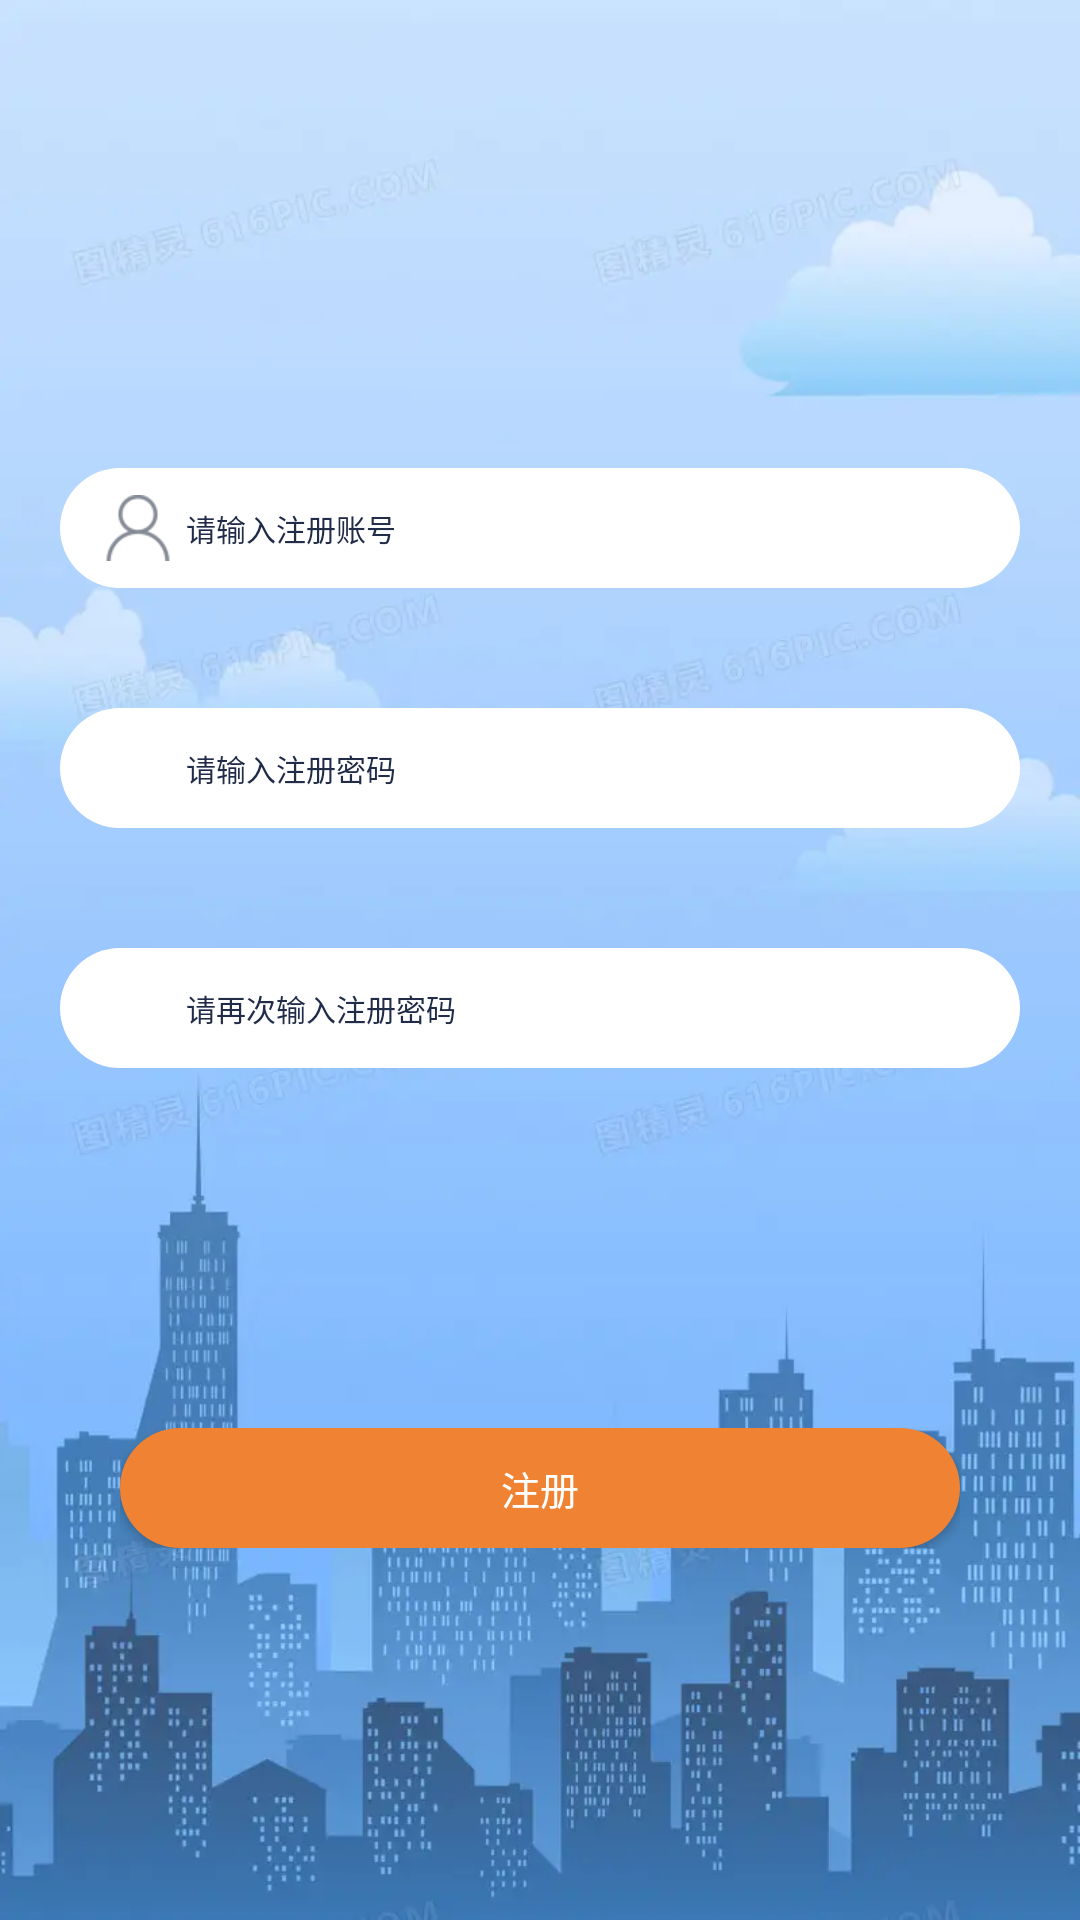

Icon click points for this 1080 × 1920 phone screenshot, format point (x, y):
mine: point (138, 528)
